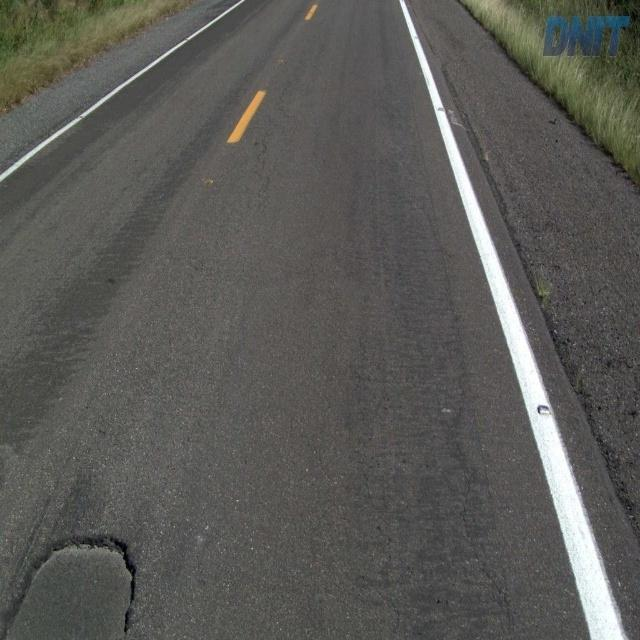pothole: (1, 528, 137, 639)
